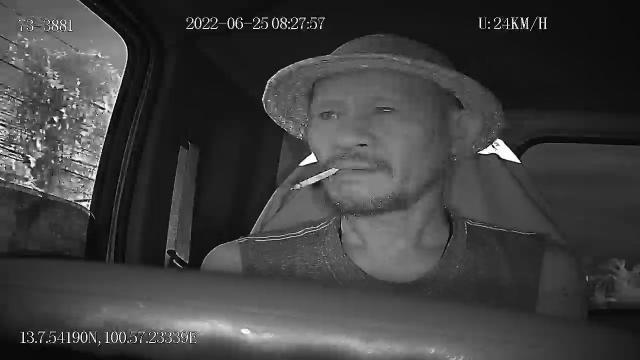SafeDriving: (366, 96, 404, 120), (311, 101, 348, 124)
Smoking: (291, 166, 341, 192)
